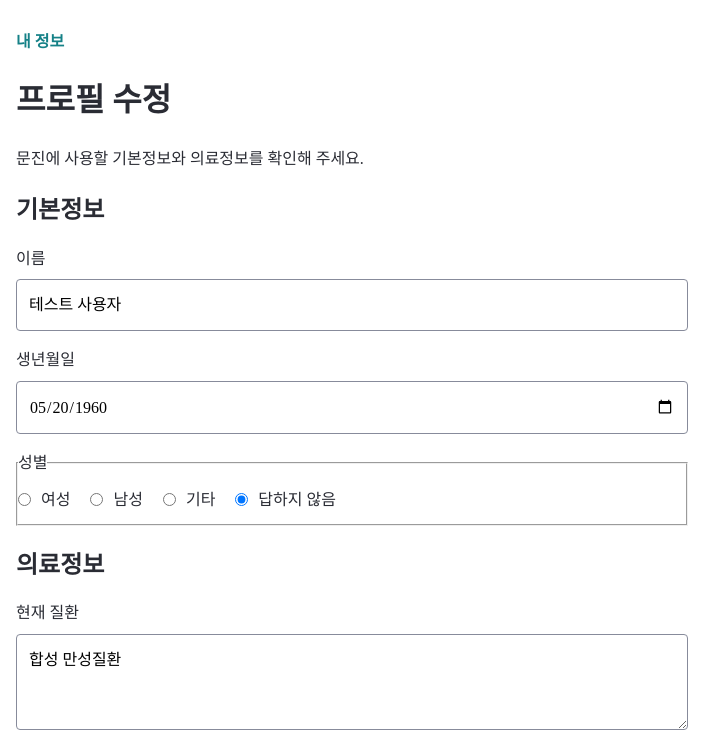
Scenario: ProfileScreen › 만 14세 미만 생년월일은 repository에 전달하지 않는다
The width and height of the screenshot is (705, 737).
Type "2012-07-23" into the date field labelled "생년월일" at (352, 407), box [16,380,688,434]
(page scrolled)
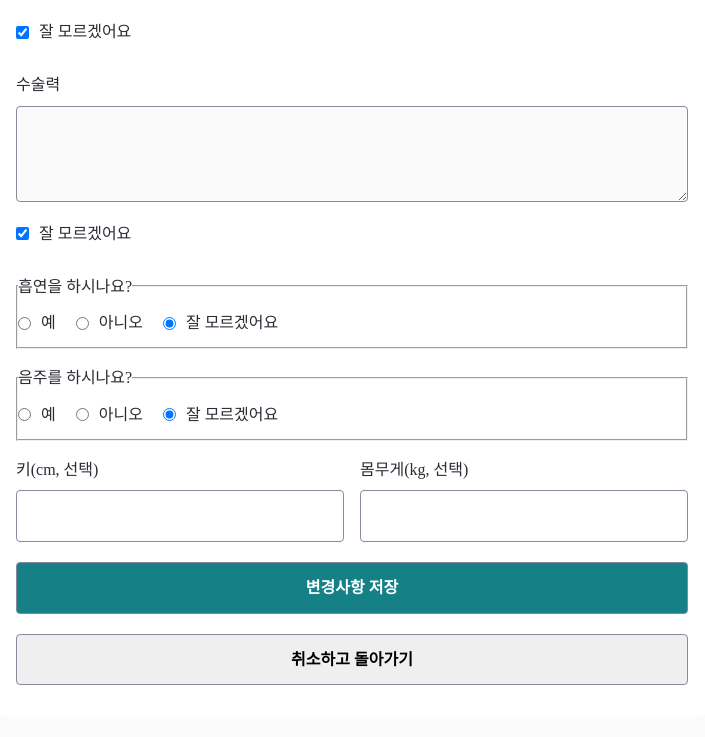
Click the button "변경사항 저장" at (352, 588), box [16,562,688,614]
(page scrolled)
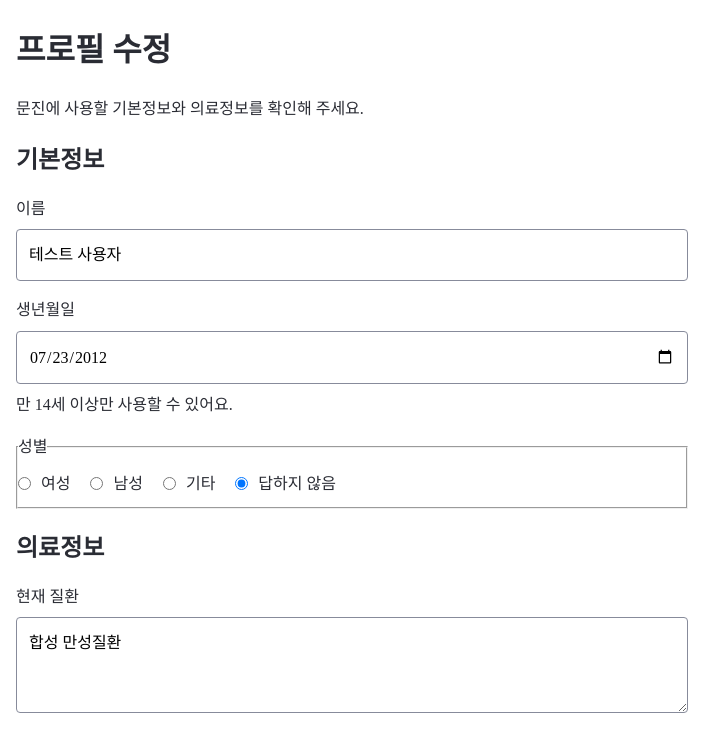
Expected: the text "만 14세 이상만 사용할 수 있어요." is shown, [16,396,233,413]
